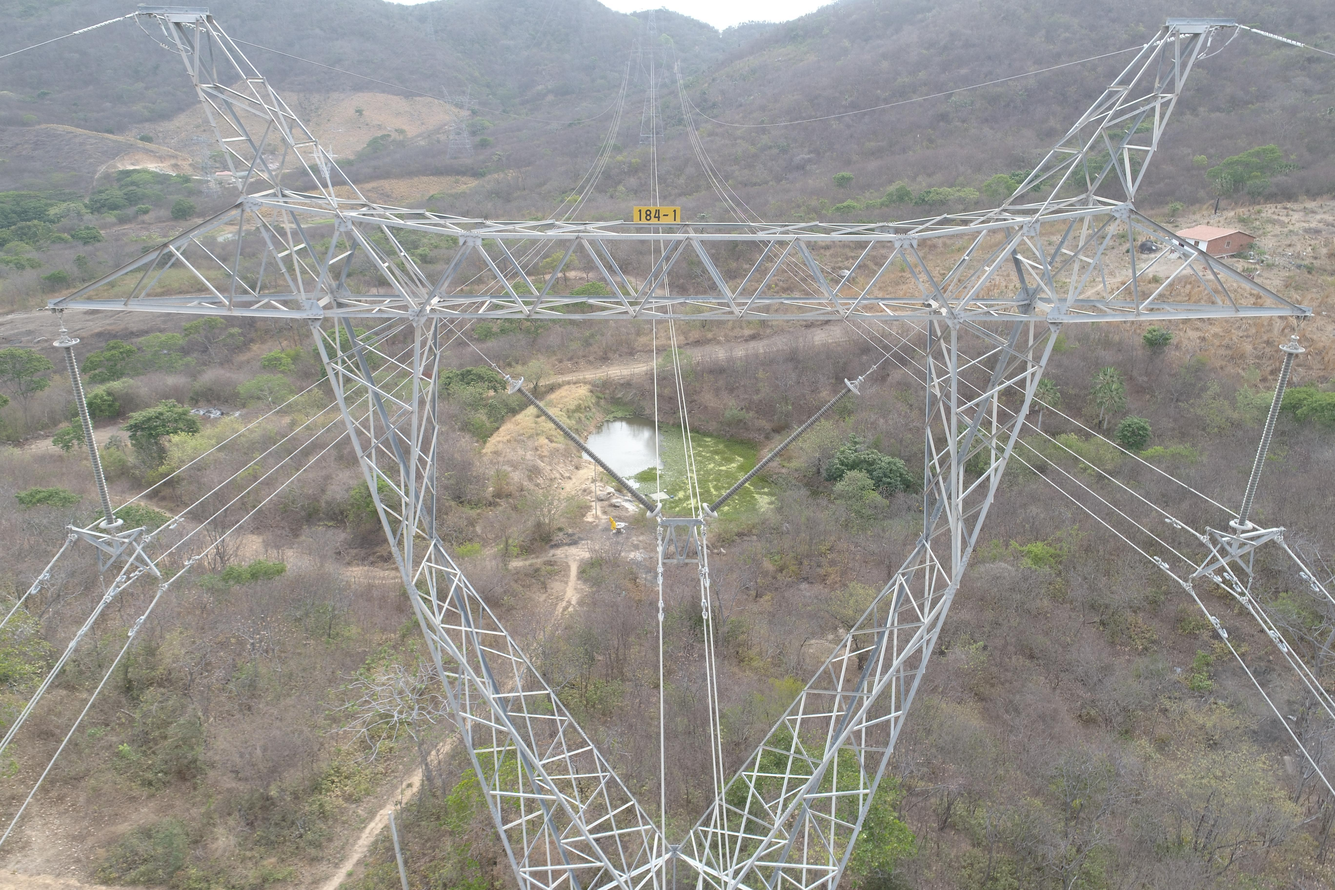power_tower: (44, 14, 1312, 890), (632, 36, 674, 143), (434, 79, 479, 169), (643, 4, 660, 33)
